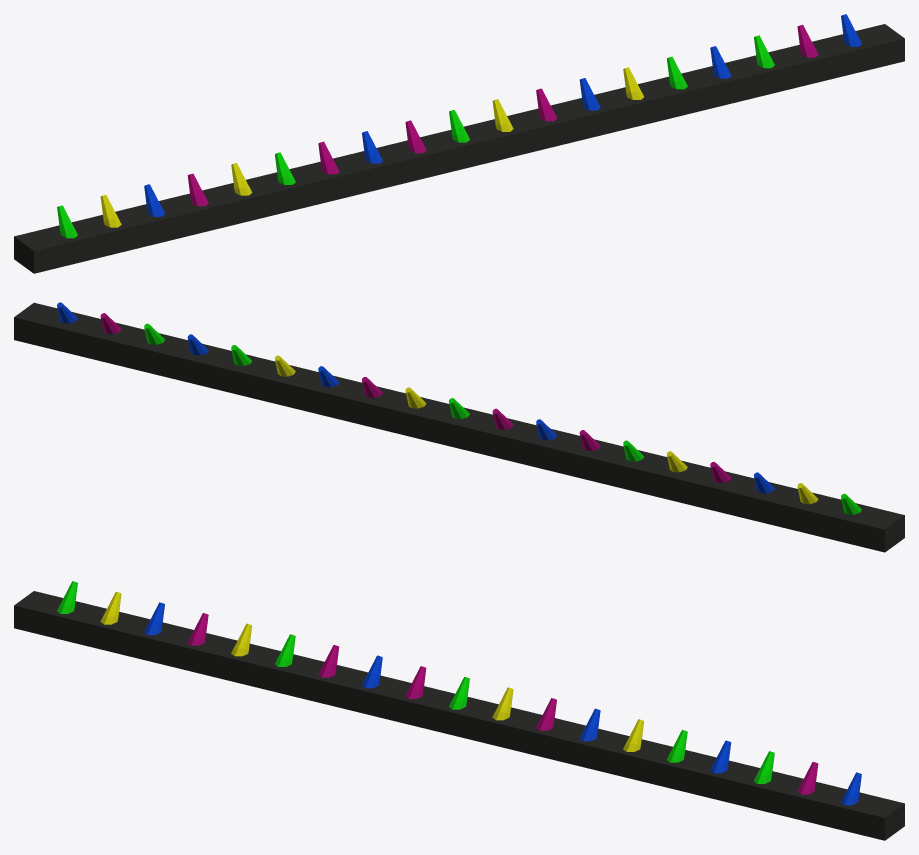
The model's file is CandySpikeStrip 1.fbx.
3 views of the same model, one above another, from view 1: azimuth 30°, elevation 25°; view 2: azimuth 150°, elevation 25°; view 3: azimuth 330°, elevation 25° (orthographic).
Parts seen in each view (by area): view 1: SpikeStrip2; view 2: SpikeStrip2; view 3: SpikeStrip2.
Part boxes in pixels (box(x1,y1,x2,y2)): SpikeStrip2: box(14, 14, 904, 273); SpikeStrip2: box(14, 302, 904, 552); SpikeStrip2: box(14, 581, 904, 840).
Bounding box in the file's own units: 10 × 0.5004 × 0.3975.
